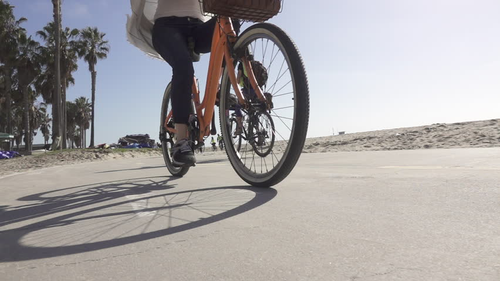bikerider: (109, 1, 325, 196)
